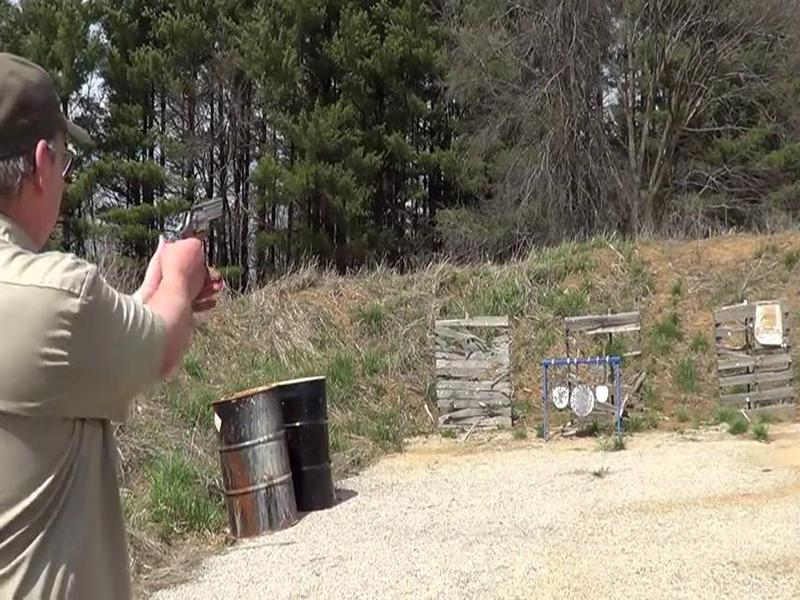Revolver: (143, 194, 247, 284)
